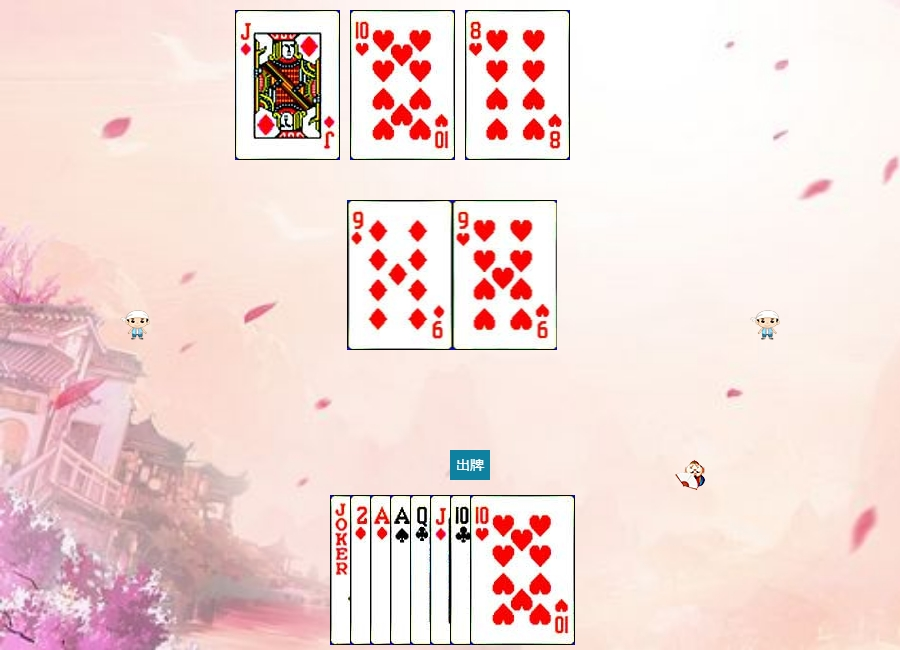10~2: (450, 495, 555, 645)
10~3: (350, 10, 455, 160), (470, 495, 575, 645)
11~1: (235, 10, 340, 160), (430, 495, 535, 645)
12~2: (410, 495, 515, 645)
14~1: (370, 495, 475, 645)
14~4: (390, 495, 495, 645)
15~1: (350, 495, 455, 645)
18~4: (330, 495, 435, 645)
8~3: (465, 10, 570, 160)
9~1: (348, 200, 453, 350)
9~3: (453, 200, 558, 350)
